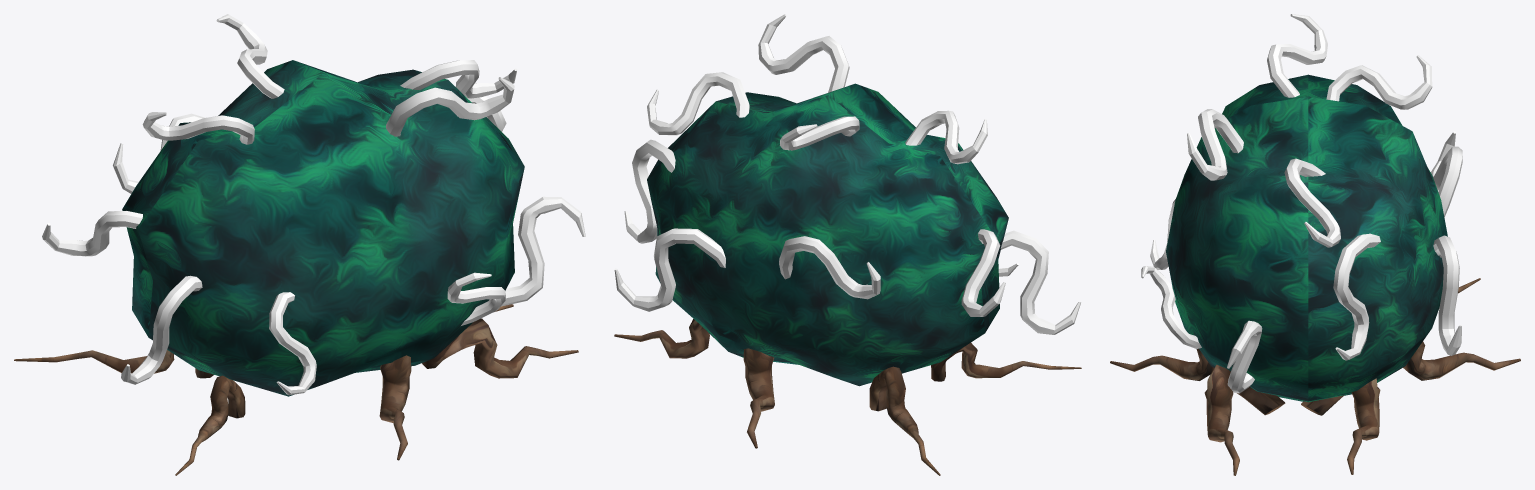
File: Bush_Mutant_04.fbx
The picture shows the model from 3 angles, left to right: view 1: azimuth 30°, elevation 25°; view 2: azimuth 150°, elevation 25°; view 3: azimuth 270°, elevation 25°; orthographic projection. The views are drawn at different scales.
Visible parts, largest first — view 1: Bush_Mutant4; view 2: Bush_Mutant4; view 3: Bush_Mutant4.
Part boxes in pixels (x1,y1,x2,y2): Bush_Mutant4: [14, 14, 585, 475]; Bush_Mutant4: [614, 14, 1081, 475]; Bush_Mutant4: [1110, 14, 1520, 475].
Bounding box in the file's own units: 214 × 145 × 178.
